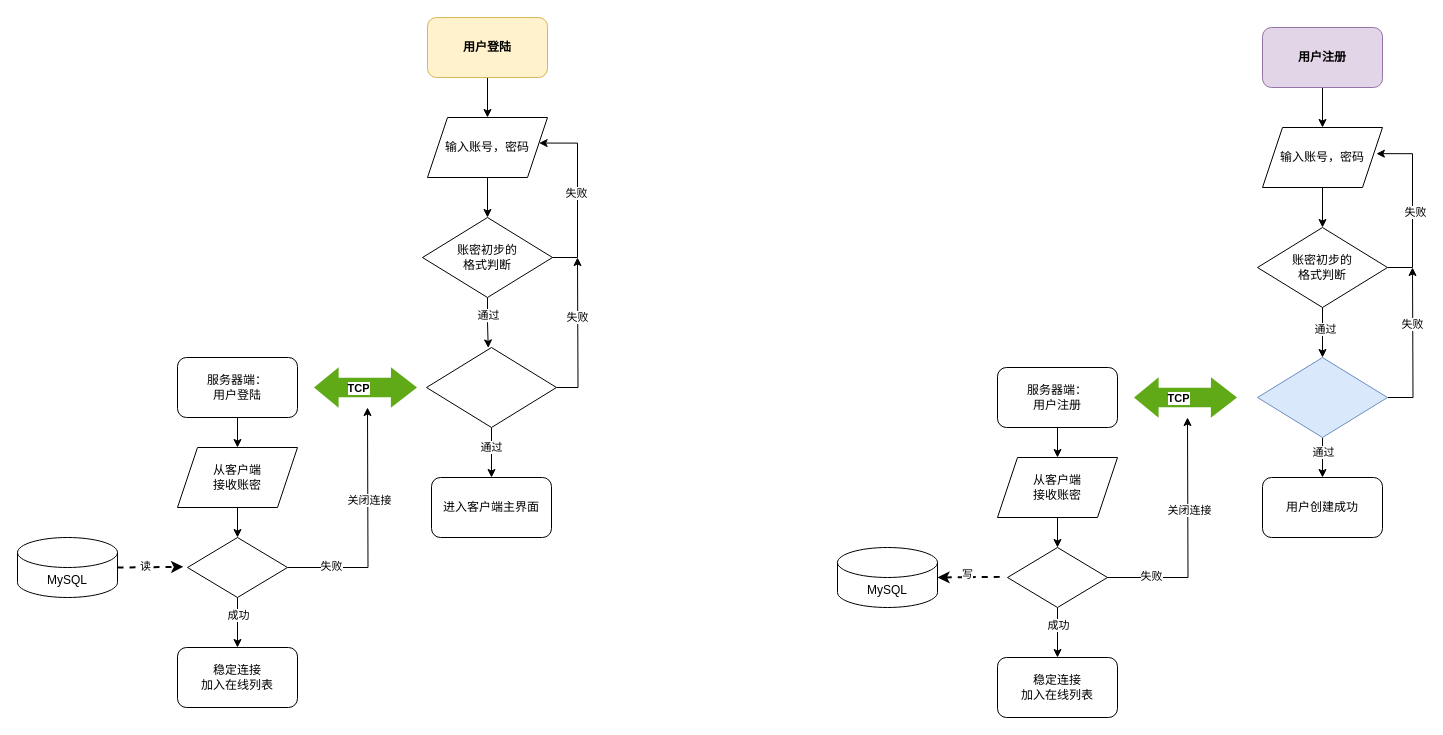
The diagram is 1443 pixels wide and 735 high, and some of its shapes have lost their labels. The shapes that lost their labels are listed below. From the top down, each one's centre as x and y in pixels, then its label:
At [491,387]: "把账密发给 服务器判断".
At [1322,397]: "TODO ： 验证码验证".
At [237,567]: "账密验证".
At [1057,577]: "格式验证 验证码验证".
